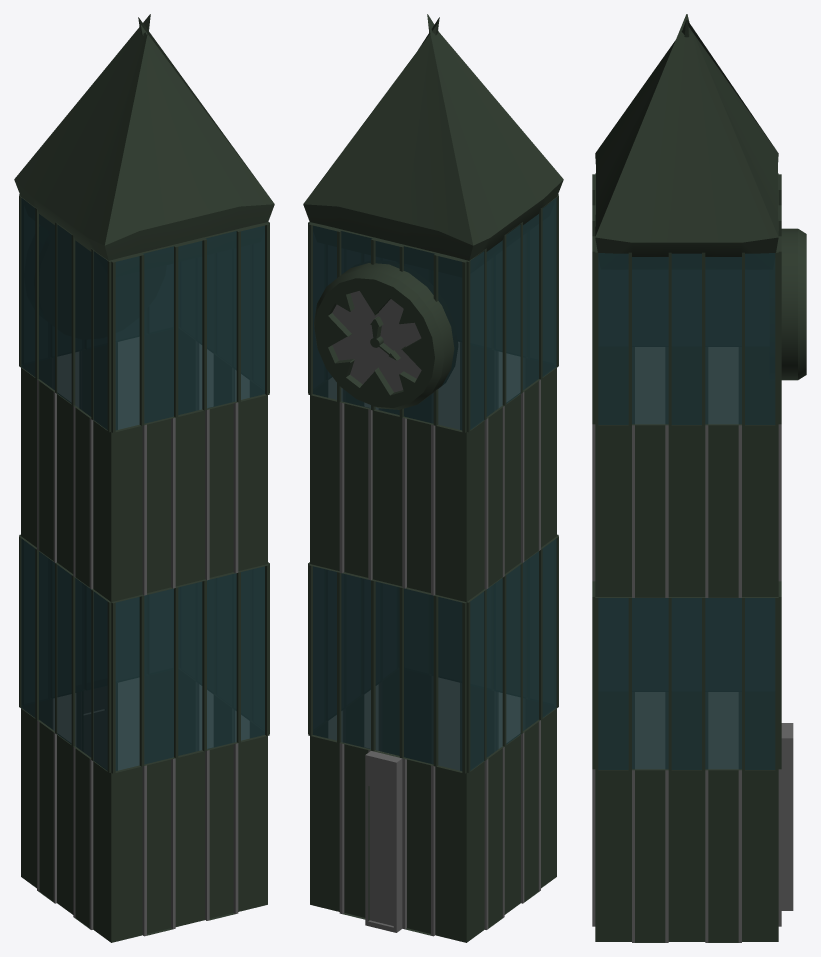
File: Tilted towers.dae
The picture shows the model from 3 angles, left to right: view 1: azimuth 30°, elevation 25°; view 2: azimuth 150°, elevation 25°; view 3: azimuth 270°, elevation 25°; orthographic projection.
Parts seen in each view (by area): view 1: pCylinder3; view 2: pCylinder3; view 3: pCylinder3.
Boxes of the visible parts, x1,y1,x2,y2 form: pCylinder3: (14, 14, 274, 942); pCylinder3: (303, 14, 563, 942); pCylinder3: (592, 14, 806, 942).
Size of the model in its own units: 2.6 by 12.8 by 2.81.
